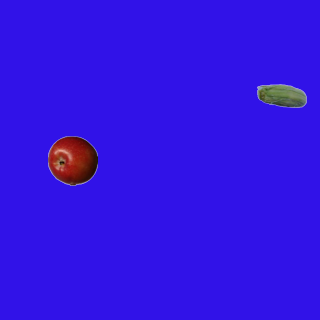Apple Braeburn: (47, 135, 97, 185)
Corn Husk: (256, 72, 306, 122)
